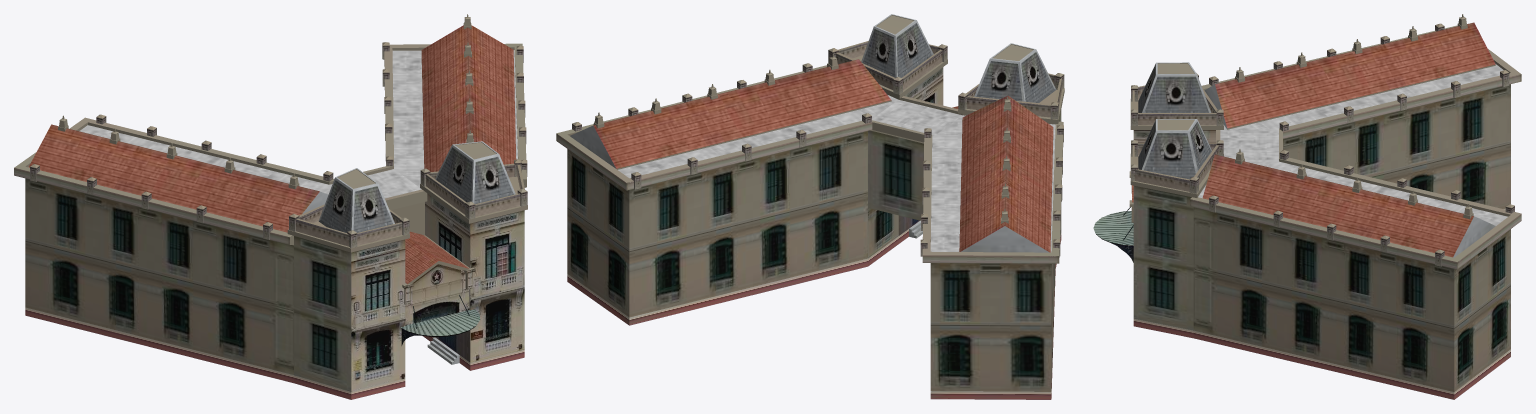
3 views of the same model, side by side, from view 1: azimuth 30°, elevation 25°; view 2: azimuth 150°, elevation 25°; view 3: azimuth 270°, elevation 25° (orthographic). The views are drawn at different scales.
Visible parts, largest first — view 1: HN1251_CongAnQuanHoanKiem; view 2: HN1251_CongAnQuanHoanKiem; view 3: HN1251_CongAnQuanHoanKiem.
Boxes of the visible parts, box(x1,y1,x2,y2) form: HN1251_CongAnQuanHoanKiem: box(14, 14, 527, 399); HN1251_CongAnQuanHoanKiem: box(556, 14, 1064, 399); HN1251_CongAnQuanHoanKiem: box(1093, 14, 1521, 399).
Size of the model in its own units: 34.98 by 13.04 by 26.73.
Materials: 1 (1 with a texture image).
